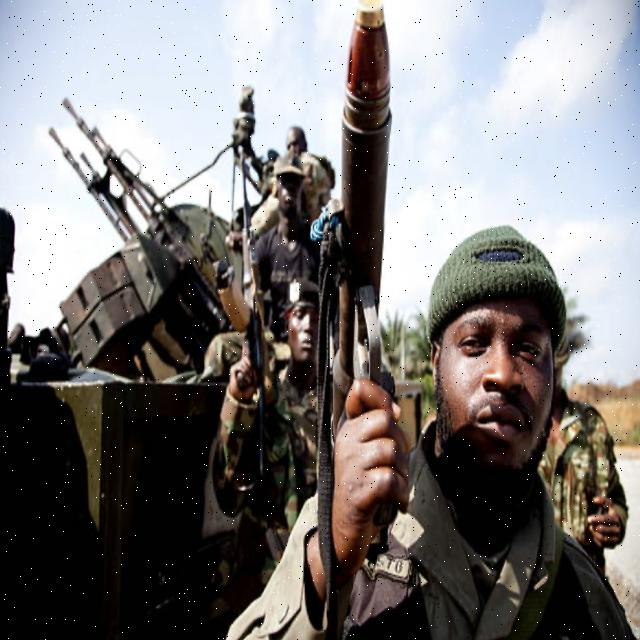bazooka: (330, 20, 413, 640)
